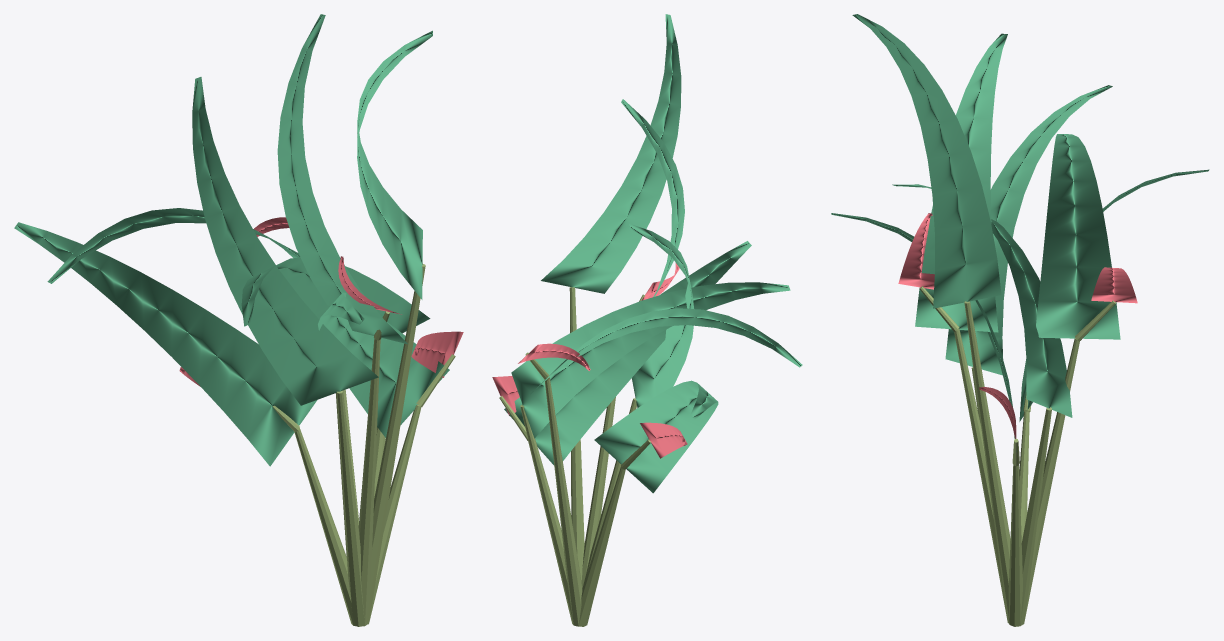
Rendered from heliconia.glb.
3 views of the same model, side by side, from view 1: azimuth 30°, elevation 25°; view 2: azimuth 150°, elevation 25°; view 3: azimuth 270°, elevation 25° (orthographic). The views are drawn at different scales.
Parts seen in each view (by area): view 1: heliconia; view 2: heliconia; view 3: heliconia.
Boxes of the visible parts, box(x1,y1,x2,y2) form: heliconia: box(14, 14, 463, 626); heliconia: box(492, 14, 802, 626); heliconia: box(831, 14, 1209, 626).
Size of the model in its own units: 1.67 by 2.7 by 1.53.
